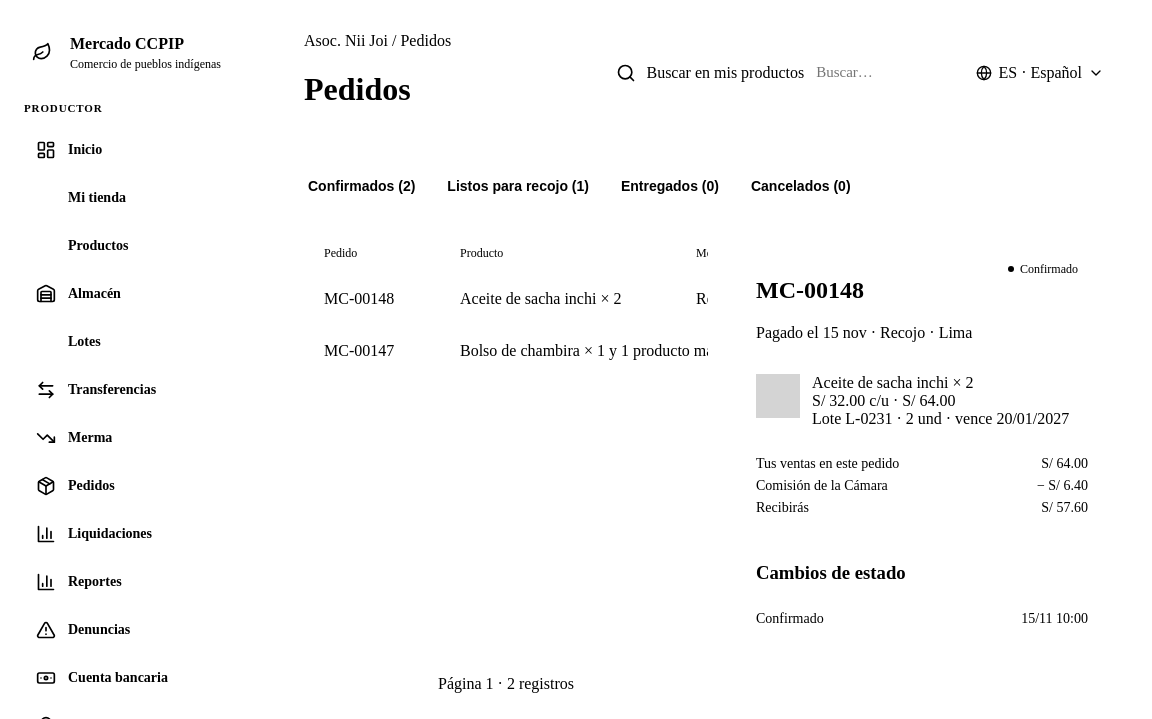
CCPIP-66 Pedidos del productor (PW-07) › cambia de pestana pidiendo ese estado y muestra el vacio
Click the tab "Listos para recojo (1)". click: (518, 187)
box: [443,166,593,209]
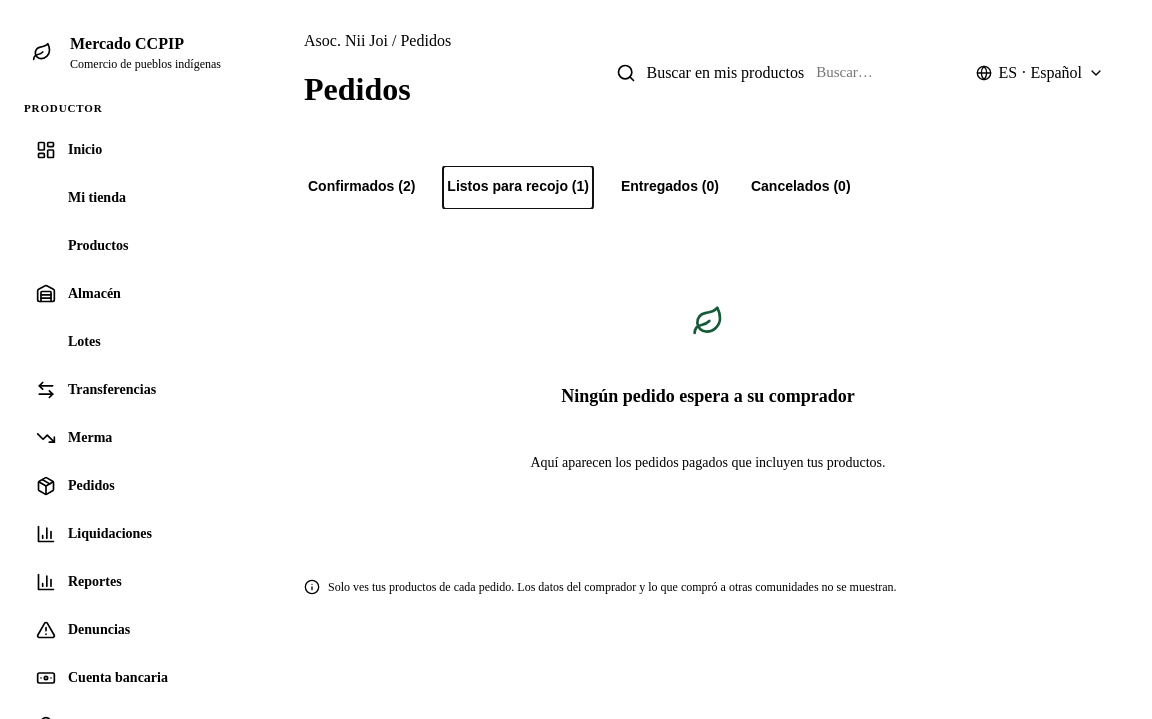
Expected: the text "Ningún pedido espera a su comprador" is shown, [561,383,855,409]
Expected: the button "MC-" is gone
